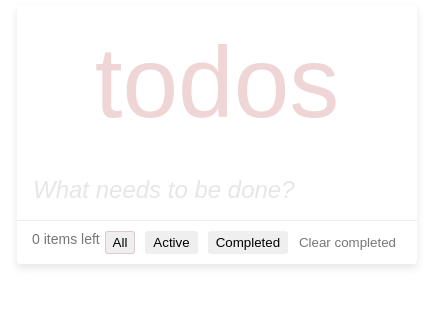
Test case: App component › фильтрует только активные задачи
Type "Активная задача" into the field with placeholder "What needs to be done?".
click(217, 190); type("Активная задача")  # box x1=17 y1=160 x2=417 y2=221
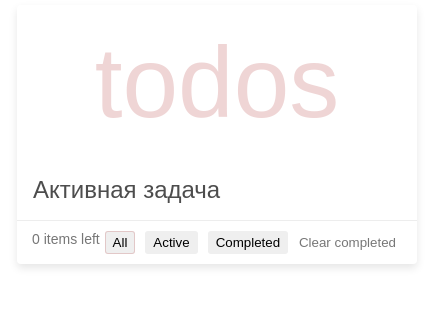
Press Enter in the field with placeholder "What needs to be done?", box x1=17 y1=160 x2=417 y2=221
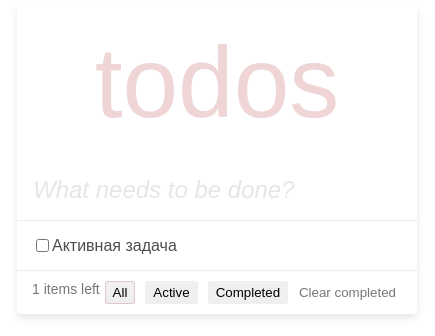
Click the checkbox.
click(42, 246)  # box x1=36 y1=239 x2=49 y2=252
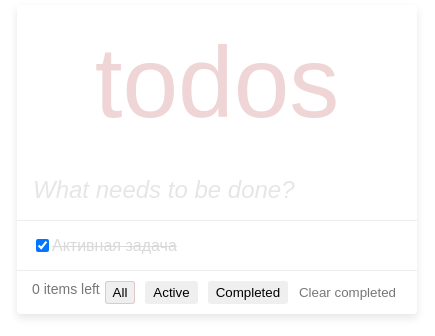
Click the button "Active".
click(171, 292)  # box x1=145 y1=281 x2=198 y2=304
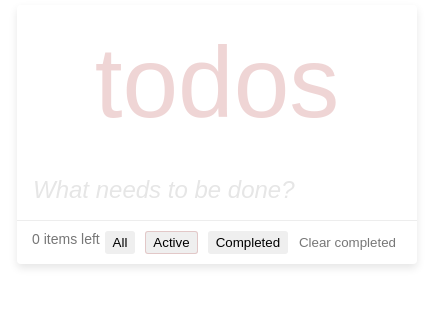
Expected: the text "Активная задача" is gone
